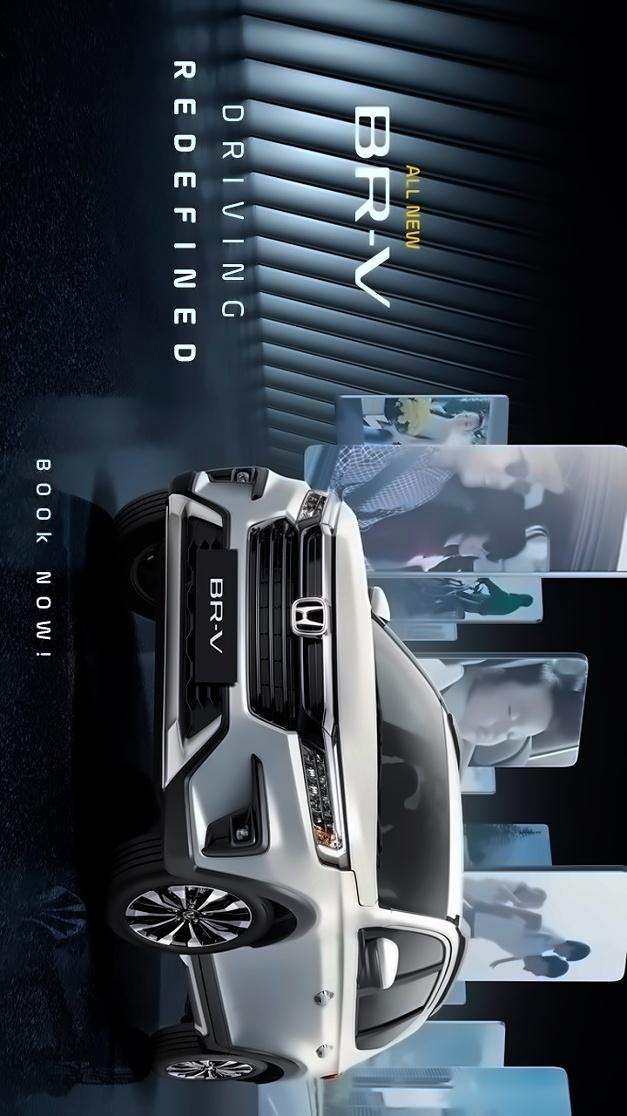Car hood: (329, 505, 387, 910)
Fender - -F-L-: (193, 855, 409, 961)
Front bumper: (140, 460, 338, 897)
Headlight - -L-: (289, 725, 350, 879)
Headlight - -R-: (284, 474, 337, 531)
Passenger-s door - -F-L-: (175, 900, 467, 1002)
Passenger-s door - -R-L-: (164, 969, 473, 1060)
Side bumper - -L-: (162, 939, 252, 1056)
Side mirror - -L-: (357, 932, 408, 1002)
